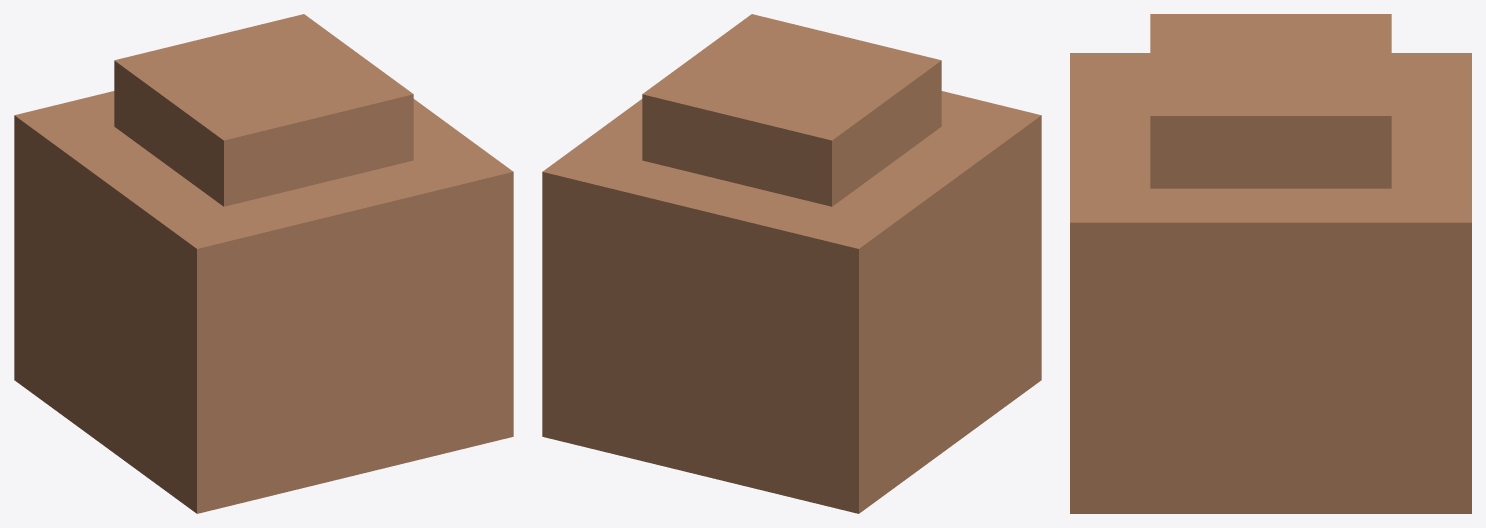
The model's file is Item_DS_Food_Stew_V0.glb.
3 views of the same model, side by side, from view 1: azimuth 30°, elevation 25°; view 2: azimuth 150°, elevation 25°; view 3: azimuth 270°, elevation 25° (orthographic). The views are drawn at different scales.
Visible parts, largest first — view 1: Item_DS_Food_Stew_V0; view 2: Item_DS_Food_Stew_V0; view 3: Item_DS_Food_Stew_V0.
Part boxes in pixels (x1,y1,x2,y2): Item_DS_Food_Stew_V0: (14,14,513,513); Item_DS_Food_Stew_V0: (542,14,1041,513); Item_DS_Food_Stew_V0: (1070,14,1471,513).
Bounding box in the file's own units: 0.18 × 0.18 × 0.18.
